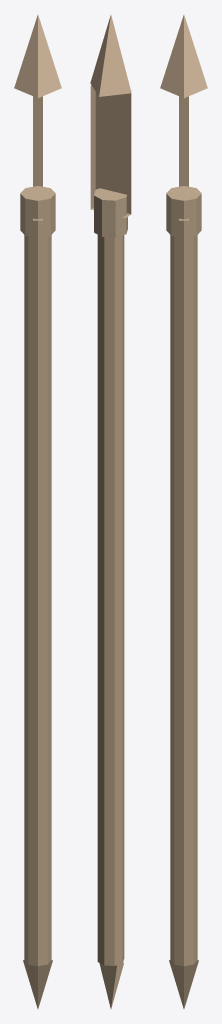
The model's file is weapon_spear.glb.
The picture shows the model from 3 angles, left to right: view 1: azimuth 90°, elevation 25°; view 2: azimuth 150°, elevation 25°; view 3: azimuth 270°, elevation 25°; orthographic projection.
Parts seen in each view (by area): view 1: WeaponSpear_Node; view 2: WeaponSpear_Node; view 3: WeaponSpear_Node.
Boxes of the visible parts, box(x1,y1,x2,y2) form: WeaponSpear_Node: box(14, 15, 61, 1008); WeaponSpear_Node: box(90, 15, 131, 1008); WeaponSpear_Node: box(160, 15, 207, 1008).
Size of the model in its own units: 0.07 by 1.61 by 0.07.
